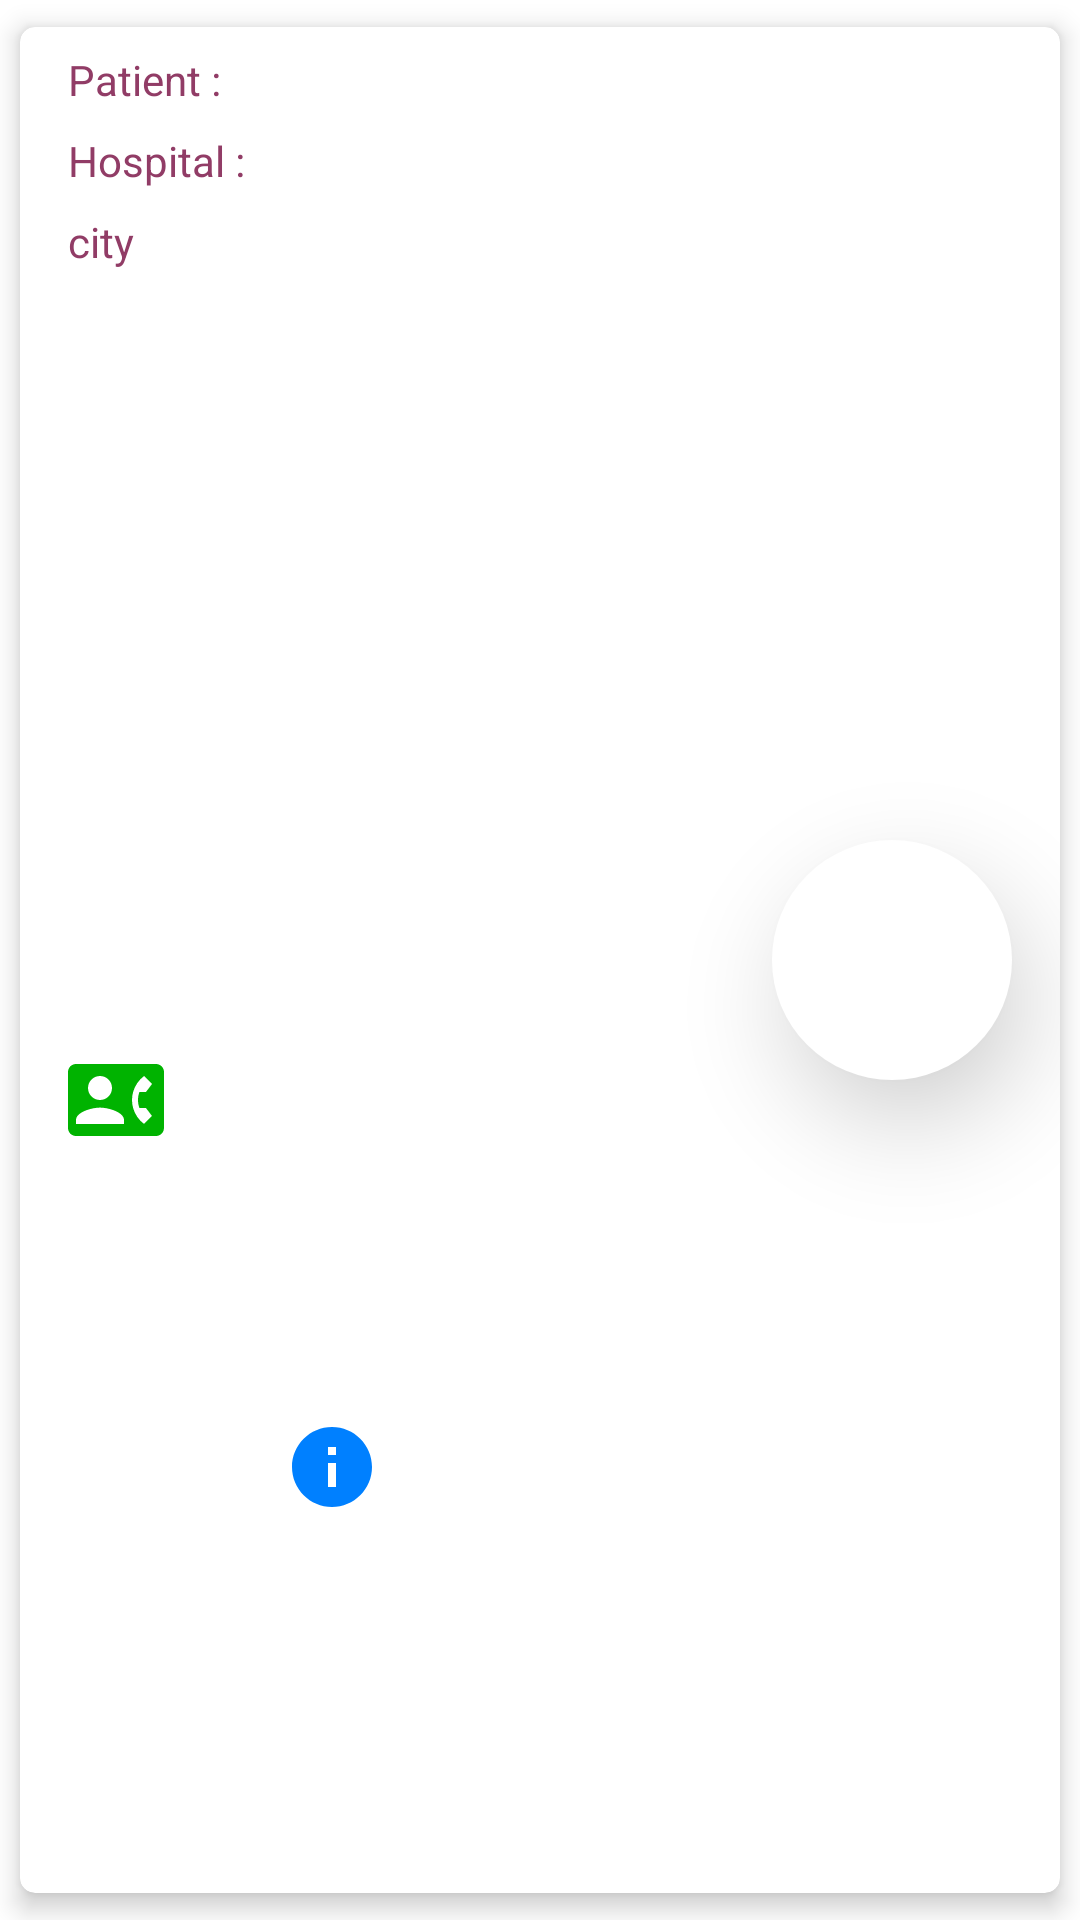

Named icons in this screenshot (1080 × 1920) and their bounding boxes, (x1, y1, x2, y2):
donation Info: (292, 1427, 372, 1507)
